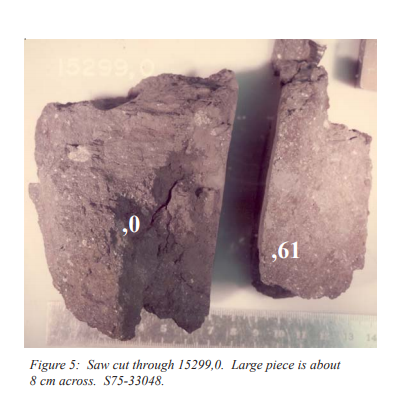Breccia: (13, 34, 368, 340), (42, 64, 218, 342), (276, 45, 363, 328)
